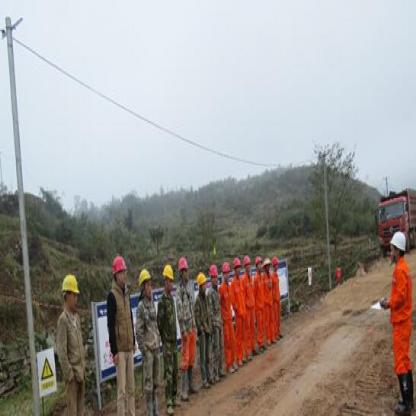helmet: (60, 272, 80, 312), (110, 252, 128, 291), (389, 228, 407, 265), (138, 268, 152, 300), (162, 262, 174, 295), (176, 254, 189, 284), (196, 269, 207, 299), (221, 259, 231, 285), (242, 252, 252, 276), (233, 255, 242, 281), (209, 264, 218, 289), (254, 254, 263, 276)
